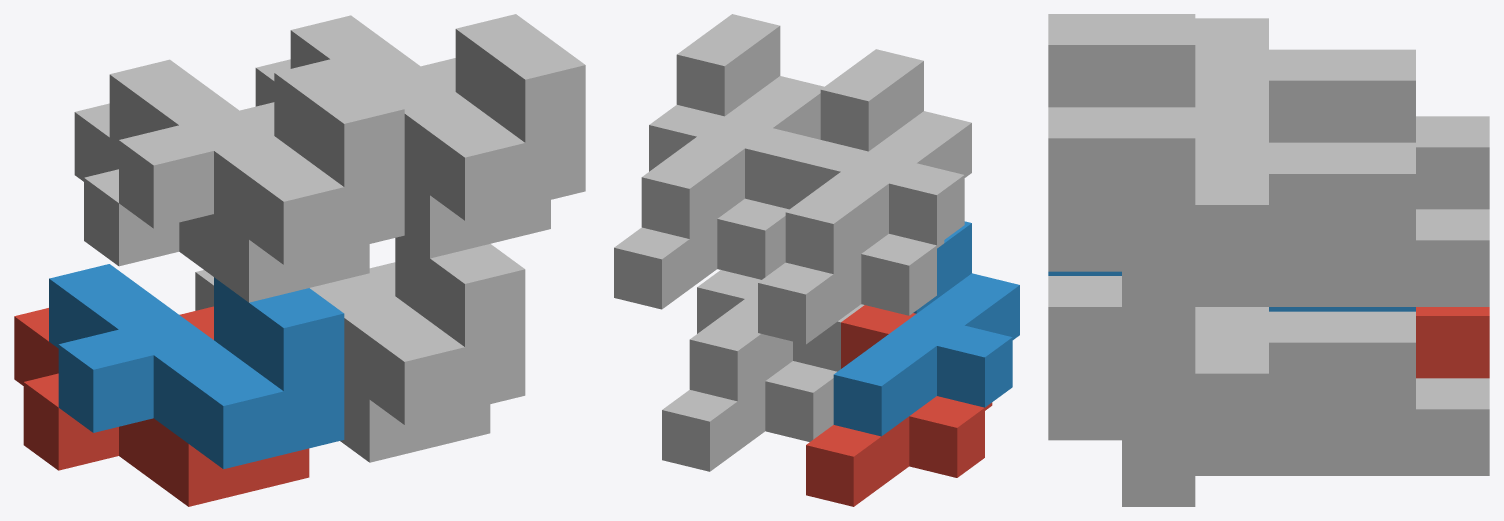
Rendered from tiling.obj.
The picture shows the model from 3 angles, left to right: view 1: azimuth 30°, elevation 25°; view 2: azimuth 150°, elevation 25°; view 3: azimuth 270°, elevation 25°; orthographic projection. The views are drawn at different scales.
Visible parts, largest first — view 1: copy_1_domain_4, copy_1_domain_2, copy_1_domain_8, copy_1_domain_6, copy_1_domain_1, copy_1_domain_3, copy_1_domain_7, copy_1_domain_5; view 2: copy_1_domain_4, copy_1_domain_8, copy_1_domain_2, copy_1_domain_3, copy_1_domain_1, copy_1_domain_7, copy_1_domain_5, copy_1_domain_6; view 3: copy_1_domain_8, copy_1_domain_5, copy_1_domain_7, copy_1_domain_4, copy_1_domain_6, copy_1_domain_3, copy_1_domain_1, copy_1_domain_2.
Boxes of the visible parts, x1,y1,x2,y2 form: copy_1_domain_4: (109, 58, 404, 264); copy_1_domain_2: (49, 264, 344, 469); copy_1_domain_8: (290, 14, 585, 220); copy_1_domain_6: (310, 236, 525, 424); copy_1_domain_1: (14, 306, 309, 506); copy_1_domain_3: (74, 102, 369, 302); copy_1_domain_7: (255, 58, 550, 258); copy_1_domain_5: (195, 262, 490, 462); copy_1_domain_4: (785, 49, 971, 273); copy_1_domain_8: (641, 14, 824, 238); copy_1_domain_2: (833, 221, 1019, 436); copy_1_domain_3: (758, 140, 944, 344); copy_1_domain_1: (806, 305, 992, 506); copy_1_domain_7: (614, 105, 788, 309); copy_1_domain_5: (662, 270, 836, 471); copy_1_domain_6: (689, 290, 864, 401); copy_1_domain_8: (1048, 107, 1415, 271); copy_1_domain_5: (1122, 342, 1489, 506); copy_1_domain_7: (1122, 174, 1489, 338); copy_1_domain_4: (1048, 14, 1415, 142); copy_1_domain_6: (1048, 276, 1415, 440); copy_1_domain_3: (1195, 80, 1489, 209); copy_1_domain_1: (1416, 307, 1489, 378); copy_1_domain_2: (1048, 271, 1415, 311).
Bounding box in the file's own units: 7 × 6 × 6.
